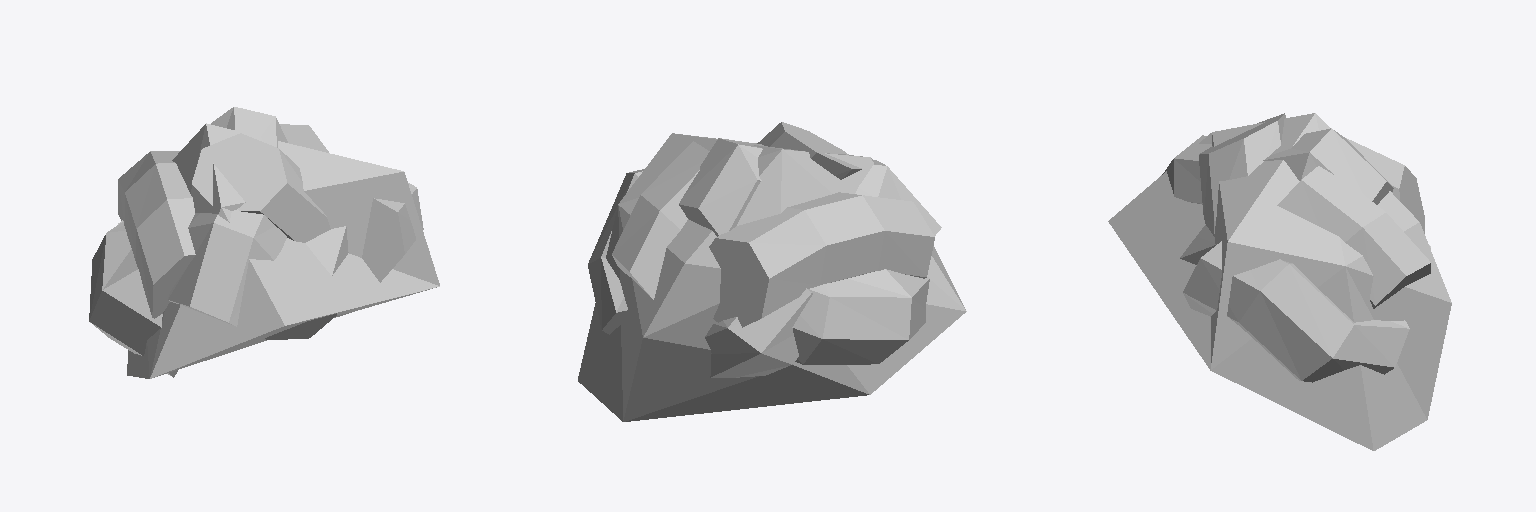
Rendered from RainbowPink.obj.
3 views of the same model, side by side, from view 1: azimuth 30°, elevation 25°; view 2: azimuth 150°, elevation 25°; view 3: azimuth 270°, elevation 25° (orthographic).
Parts seen in each view (by area): view 1: group[number redacted]; view 2: group[number redacted]; view 3: group[number redacted].
Boxes of the visible parts, x1=… form: group[number redacted]: x1=89, y1=107, x2=439, y2=378; group[number redacted]: x1=578, y1=122, x2=966, y2=421; group[number redacted]: x1=1108, y1=113, x2=1451, y2=450.
Bounding box in the file's own units: 0.1083 × 0.0871 × 0.1047.